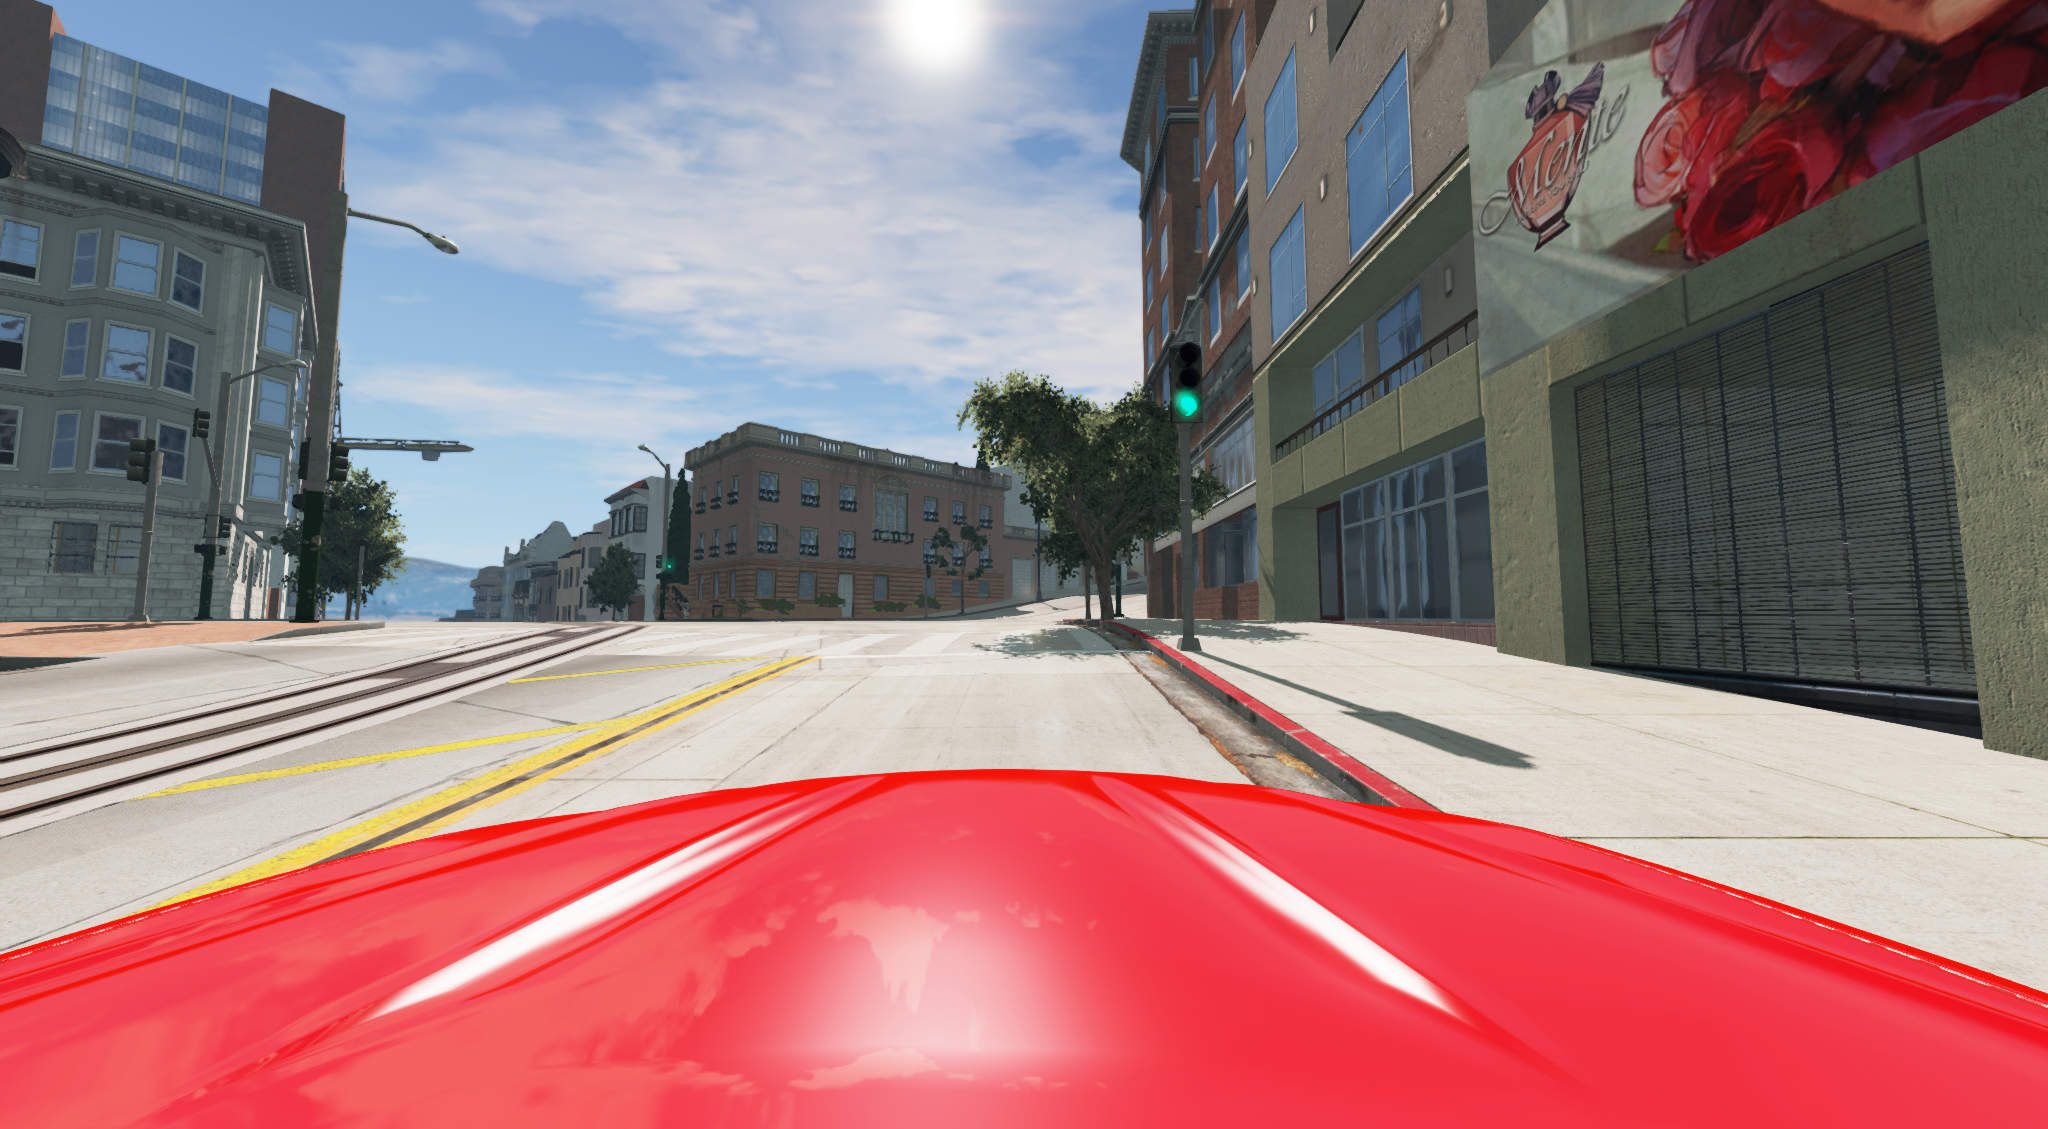green: (1160, 342, 1212, 425)
